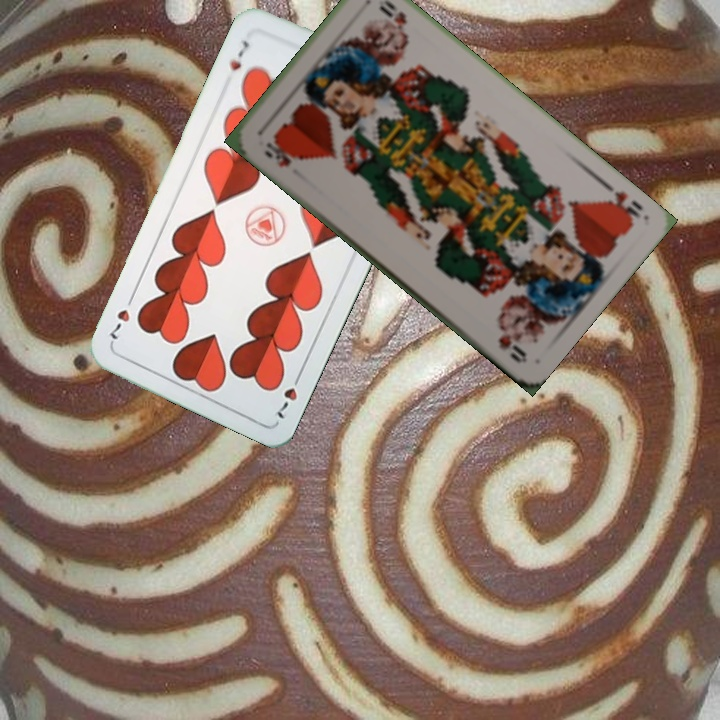H7: (273, 367, 305, 422), (225, 36, 253, 74)
HO: (597, 176, 646, 227), (260, 138, 294, 170)
